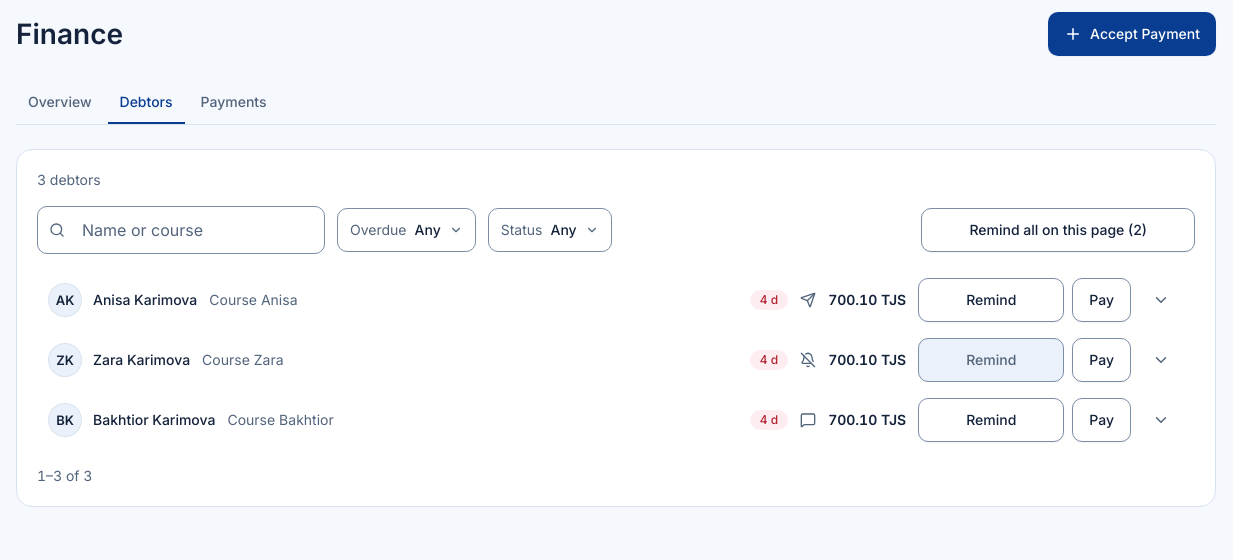
it: Debt reminder channels › shows the channel and masked destination when an sms reminder is queued
Expected: the text "Bakhtior Karimova" is shown, [93,410,216,430]
Click the button with aria-label "Remind the parent of Bakhtior Karimova" at [991, 420], box [918,398,1064,442]
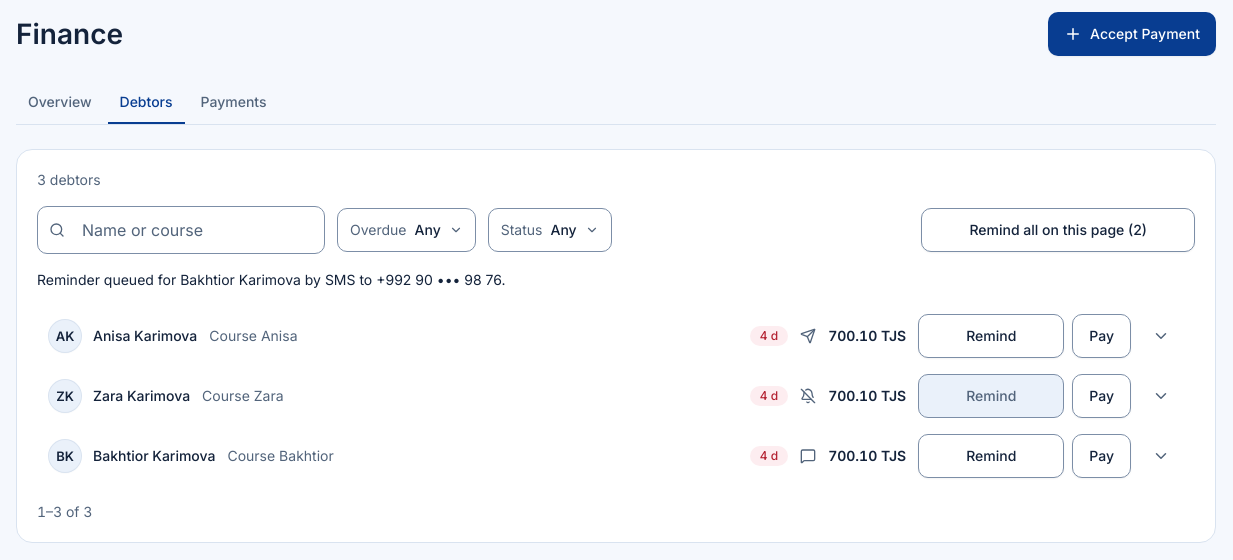
Now the text "Reminder queued for Bakhtior Karimova by SMS to +992 90 ••• 98 76." is shown, box [37,271,506,288]
